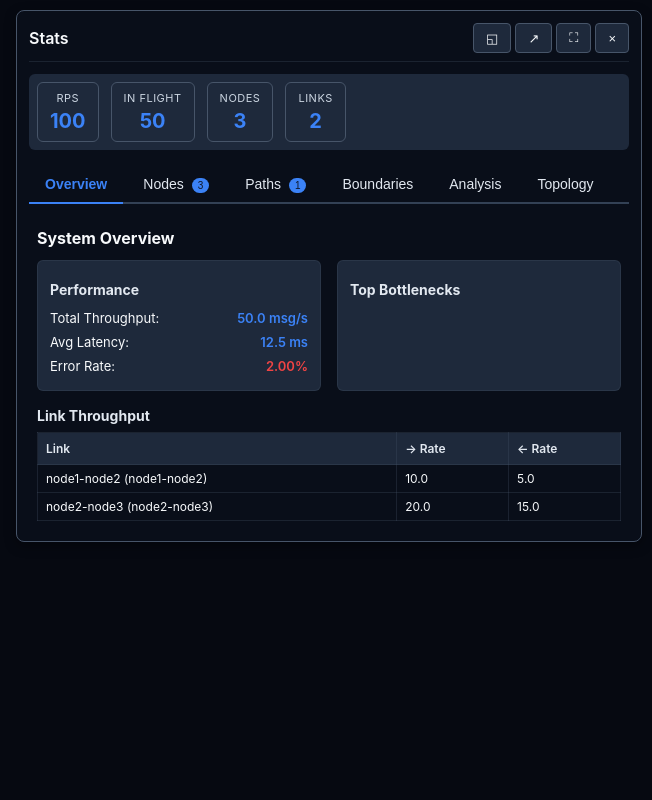
Test: StatsOverlayEnhanced › shows topology tab with graph properties
Click the button with class "stats-tab" showing "Topology" at (565, 184), box [521,166,609,202]
(page scrolled)
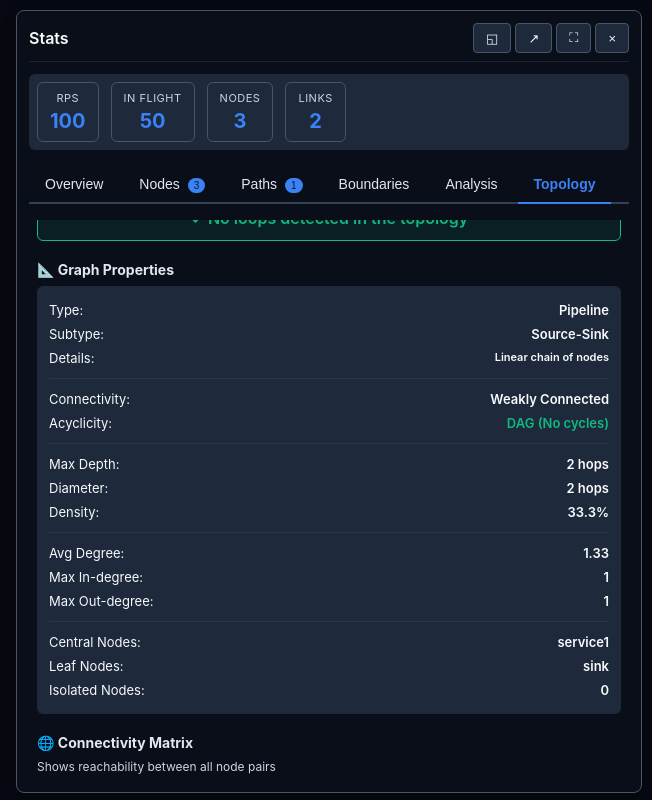
expect the element with class "graph-properties" is shown: met, box [37,286,621,714]
